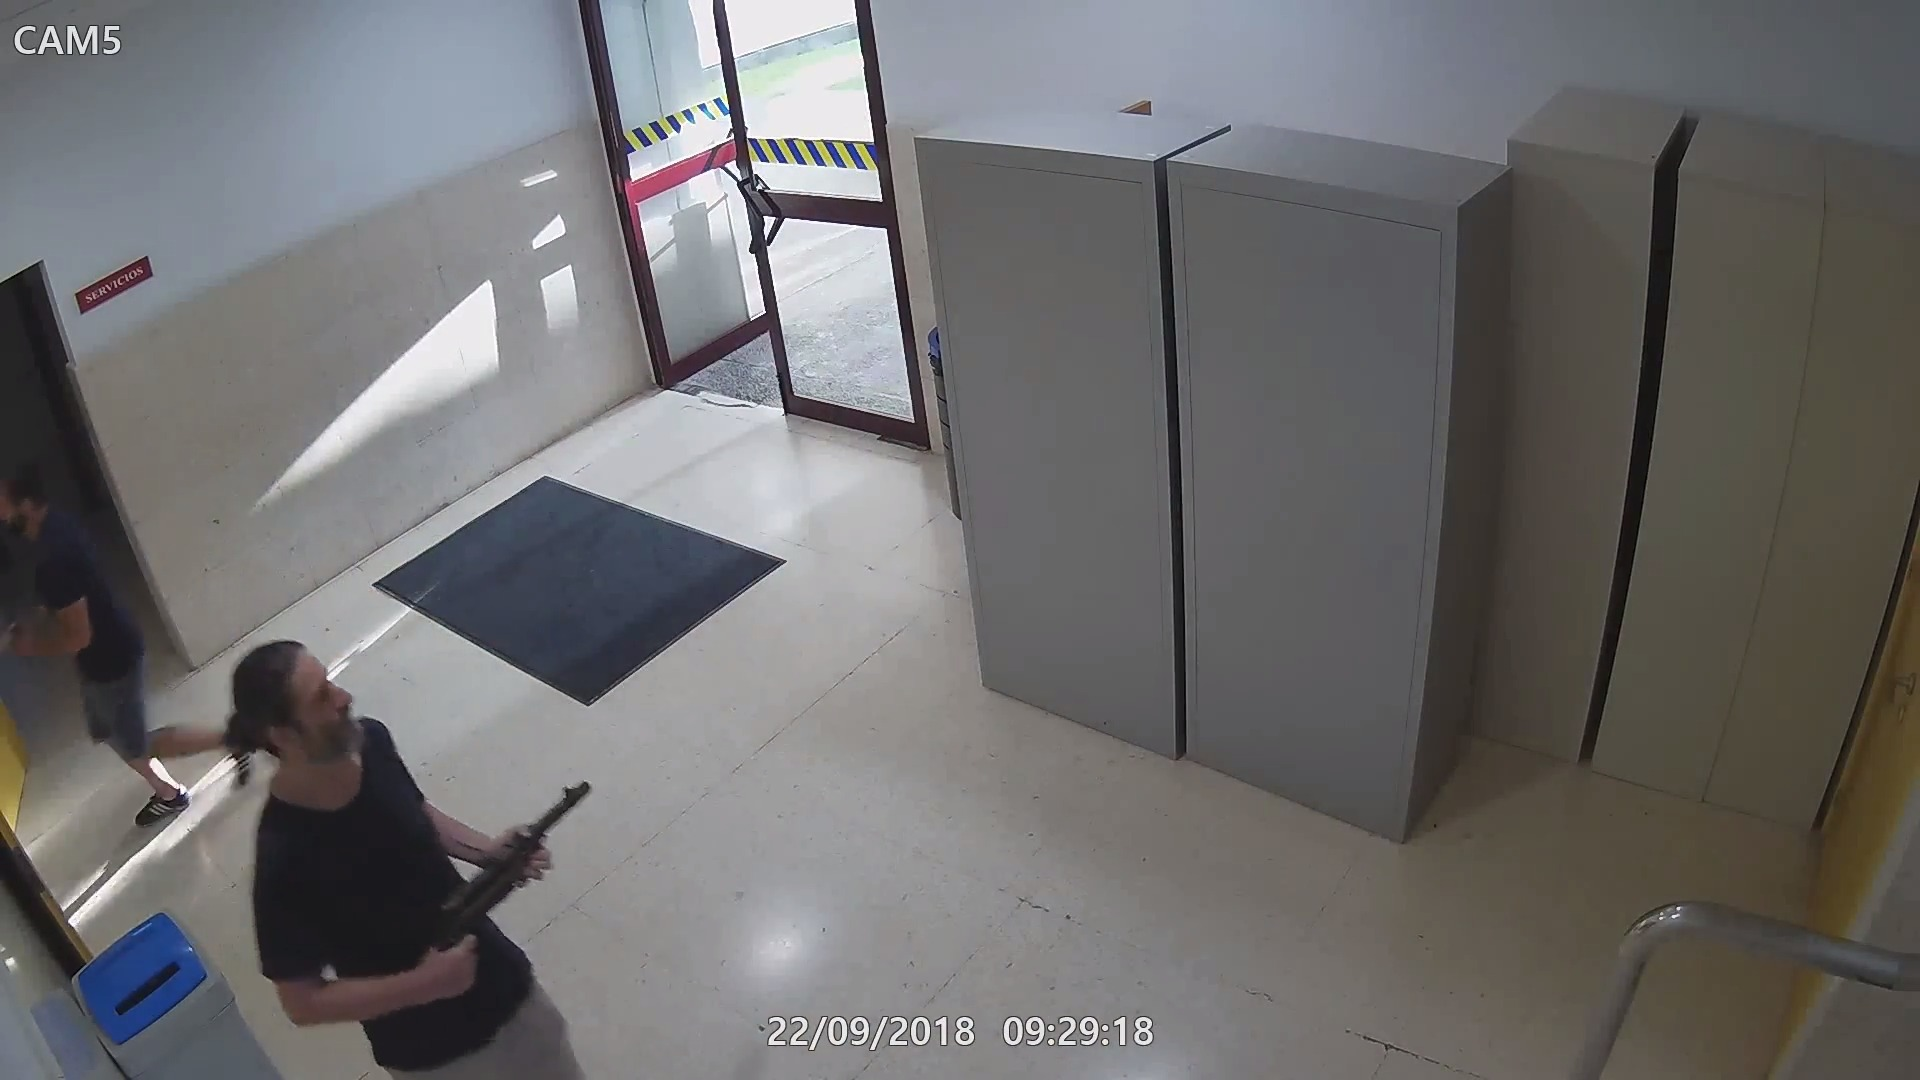Short_rifle: (421, 775, 593, 1007)
